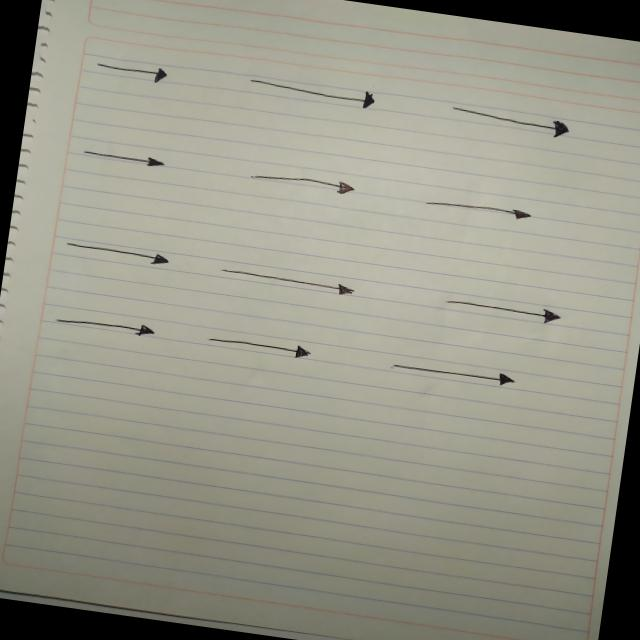arrow_line_right: (232, 64, 400, 124), (438, 286, 590, 340), (234, 160, 380, 213), (211, 257, 367, 306), (434, 96, 584, 145), (369, 350, 525, 397), (408, 187, 550, 236), (192, 322, 321, 370), (56, 230, 187, 274), (42, 301, 168, 343), (82, 49, 184, 92), (77, 140, 172, 174)
